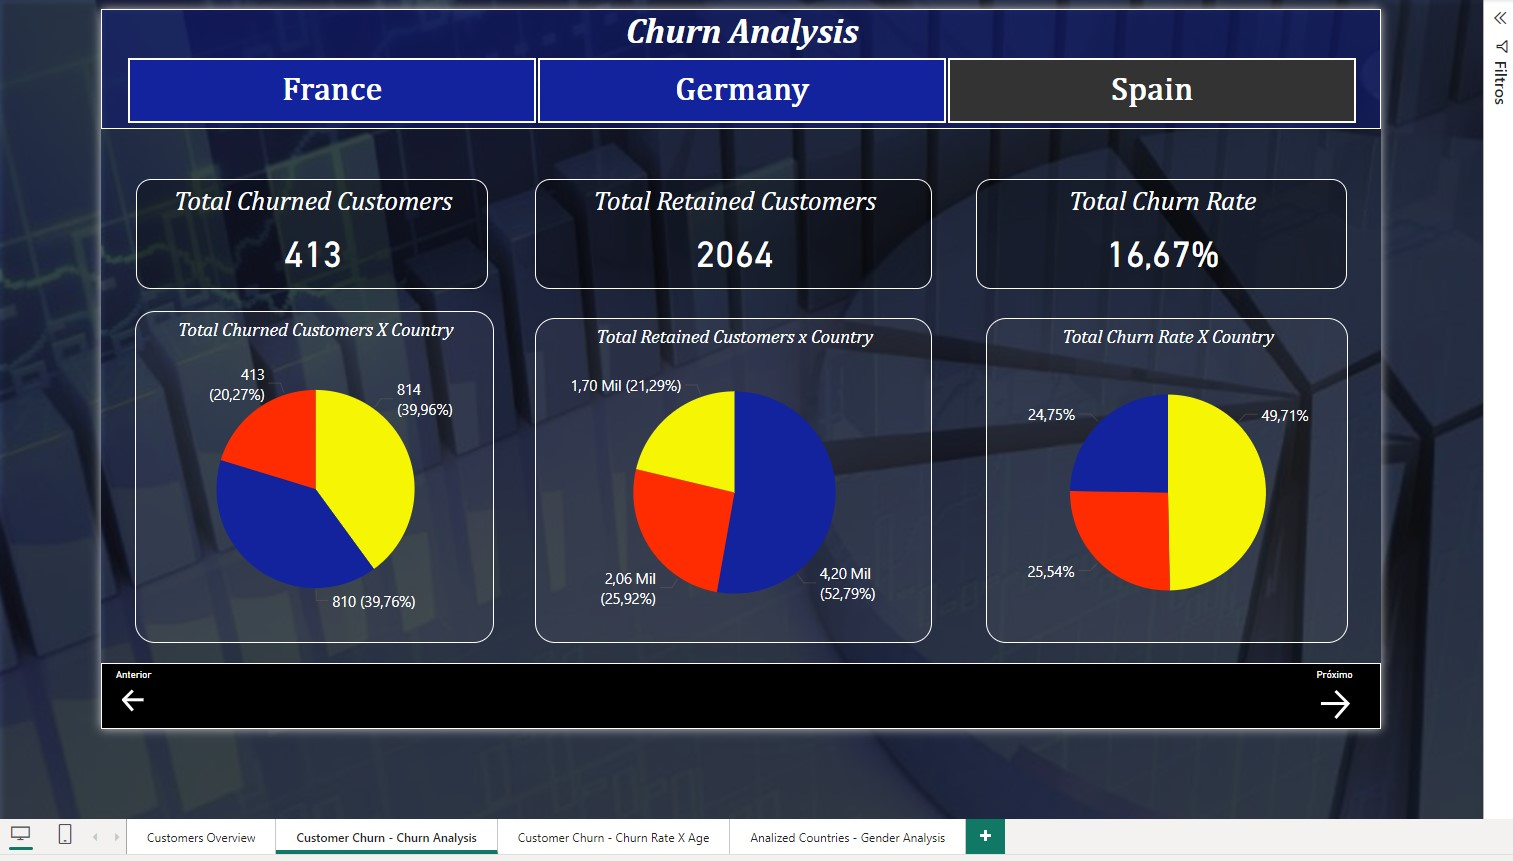

This screenshot's page, from the dashboard's own definition file:
{"tool":"powerbi","page":{"name":"Customer Churn - Churn Analysis","canvas":[1280,720],"ordinal":1},"visuals":[{"type":"shape","box":[0,653.6,1280,66.4],"z":0},{"type":"slicer","title":"Churn Analysis","fields":{"Values":["Customer Churn Classification c.Geography"]},"box":[0,0,1280,120],"z":1000},{"type":"actionButton","title":"Próximo","box":[1196.4,660,74.5,54.5],"z":2000},{"type":"card","title":"Total Churned Customers","fields":{"Values":["Customer Churn.CountChurnedCustomers"]},"box":[34.5,170,352.7,110],"z":3000},{"type":"card","title":"Total Retained Customers","fields":{"Values":["Customer Churn.CountRetainedCustomers"]},"box":[433.6,170,397.3,110],"z":4000},{"type":"card","title":"Total Churn Rate","fields":{"Values":["Customer Churn.ChurnRate"]},"box":[874.5,170,371.8,110],"z":5000},{"type":"actionButton","title":"Anterior","box":[6.4,660,52.7,47.3],"z":6000},{"type":"pieChart","title":"Total Retained Customers x Country","fields":{"Y":["Customer Churn.CountRetainedCustomers"],"Category":["Customer Churn.Geography"]},"box":[433.8,308.9,397.7,324.6],"z":7000},{"type":"pieChart","title":"Total Churned Customers X Country","fields":{"Y":["Customer Churn.CountChurnedCustomers"],"Category":["Customer Churn.Geography"]},"box":[34.2,301.5,358.8,332],"z":8000},{"type":"pieChart","title":"Total Churn Rate  X Country","fields":{"Y":["Customer Churn.ChurnRate"],"Category":["Customer Churn.Geography"]},"box":[885.1,308.9,361.6,324.6],"z":9000}]}

Visuals, with their boxes on the page's 1280x720 design canvas (x1, y1, x2, y2). These are canvas units, not pixel positions in the 1513x861 screenshot, which may show the page scaled, cropped or inside an application window:
shape: bbox=(0, 654, 1280, 720)
"Churn Analysis" slicer: bbox=(0, 0, 1280, 120)
"Próximo" actionButton: bbox=(1196, 660, 1271, 714)
"Total Churned Customers" card: bbox=(34, 170, 387, 280)
"Total Retained Customers" card: bbox=(434, 170, 831, 280)
"Total Churn Rate" card: bbox=(874, 170, 1246, 280)
"Anterior" actionButton: bbox=(6, 660, 59, 707)
"Total Retained Customers x Country" pieChart: bbox=(434, 309, 832, 634)
"Total Churned Customers X Country" pieChart: bbox=(34, 302, 393, 634)
"Total Churn Rate  X Country" pieChart: bbox=(885, 309, 1247, 634)
